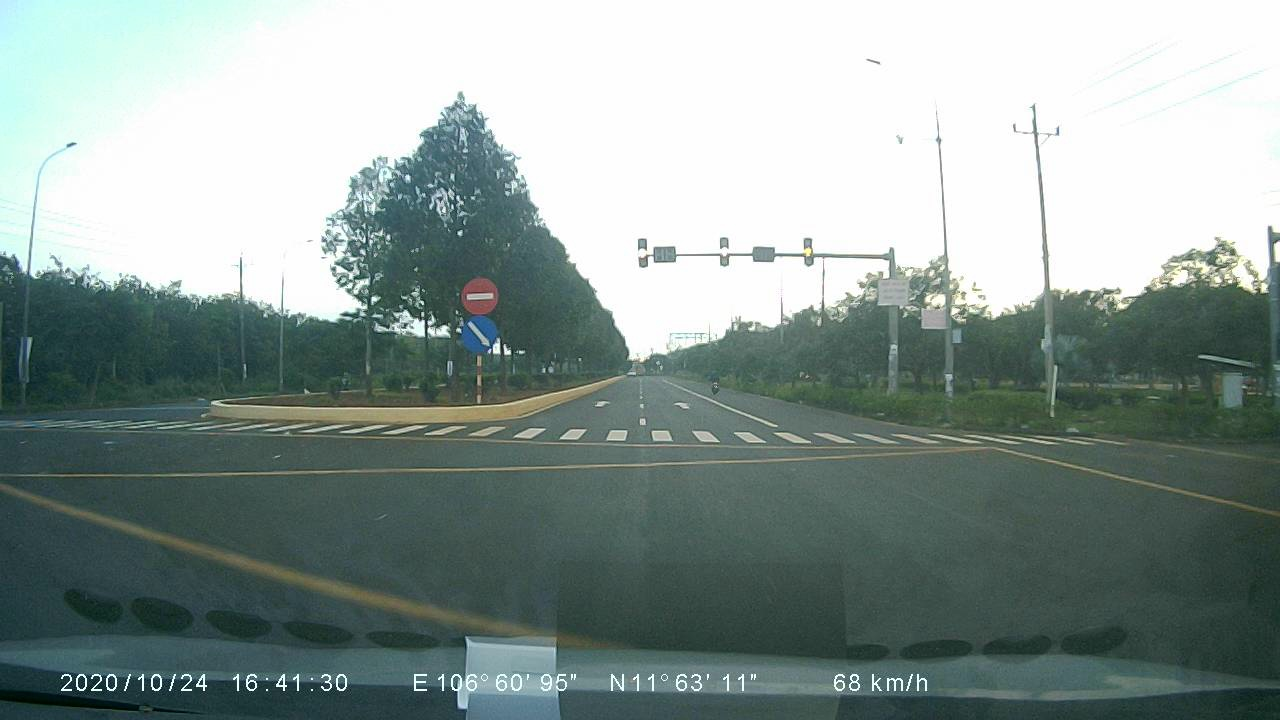Cam di nguoc chieu: (460, 273, 500, 313)
Huong di phai re phai: (456, 315, 502, 357)
